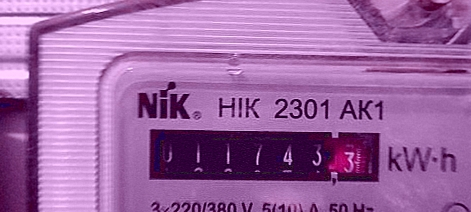0: (159, 137, 173, 165)
1: (220, 137, 232, 165), (191, 137, 201, 164)
3: (309, 140, 323, 167), (340, 149, 354, 174)
4: (279, 140, 293, 167)
7: (249, 137, 264, 165)
screen: (137, 117, 390, 192)
